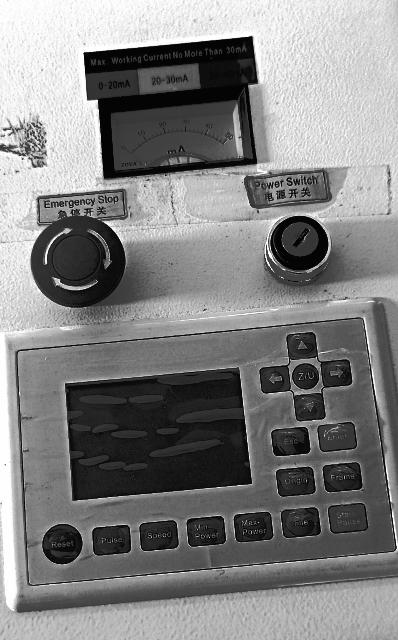Amp_Meter: (111, 91, 253, 171)
Display: (66, 370, 251, 500)
Down_button: (295, 394, 325, 421)
Emergency_Stop: (31, 216, 125, 308)
Enter_button: (318, 423, 356, 451)
Esc_button: (271, 427, 309, 455)
File_button: (282, 508, 320, 538)
Frame_button: (324, 463, 362, 492)
Left_button: (260, 366, 290, 393)
Max-Power_button: (234, 513, 273, 542)
Min-Power_button: (188, 517, 225, 546)
Origin_button: (276, 467, 315, 496)
Power_switch: (265, 216, 331, 285)
Pulse_button: (93, 526, 131, 555)
Reset_button: (43, 525, 82, 564)
Right_button: (322, 360, 352, 387)
Speed_button: (140, 521, 178, 551)
Start-Pause_button: (329, 502, 369, 532)
Up_button: (287, 332, 317, 359)
Z_U_button: (293, 363, 319, 389)
